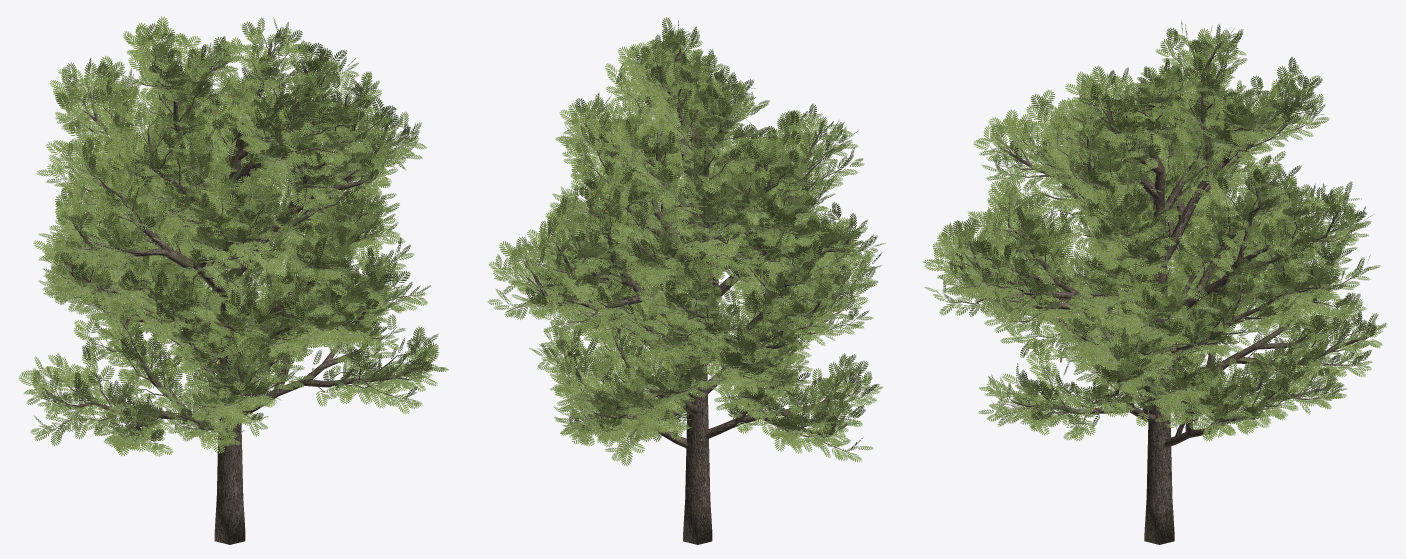
Rendered from tree.fbx.
3 renders of one model, left to right at view 1: azimuth 30°, elevation 25°; view 2: azimuth 150°, elevation 25°; view 3: azimuth 270°, elevation 25°, orthographic. The views are drawn at different scales.
Visible parts, largest first — view 1: leaves, tree; view 2: leaves, tree; view 3: leaves, tree.
Boxes of the visible parts, x1,y1,x2,y2 form: leaves: (18, 16, 448, 456); tree: (40, 37, 432, 544); leaves: (487, 17, 885, 465); tree: (505, 42, 869, 544); leaves: (922, 20, 1387, 441); tree: (941, 36, 1367, 544).
Bounding box in the file's own units: 2055 × 2750 × 2378.
3 materials, 3 textured.
